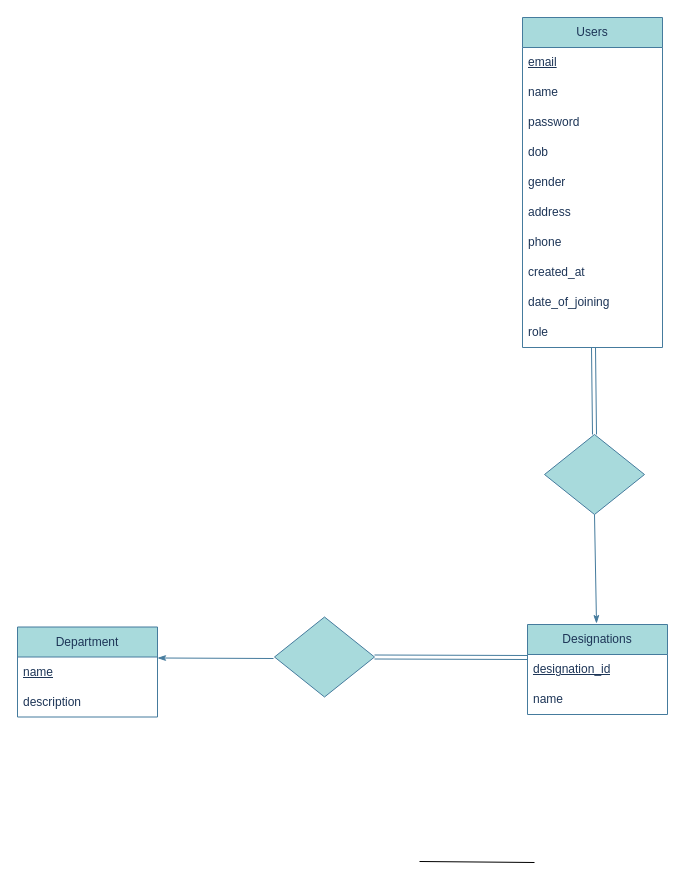
The diagram is 685 pixels wide and 881 high, and some of its shapes have lost their labels. Each missing label, with the centre of its shape:
"dep_desig" goes at (x=324, y=656).
"user_desig" goes at (x=594, y=474).
